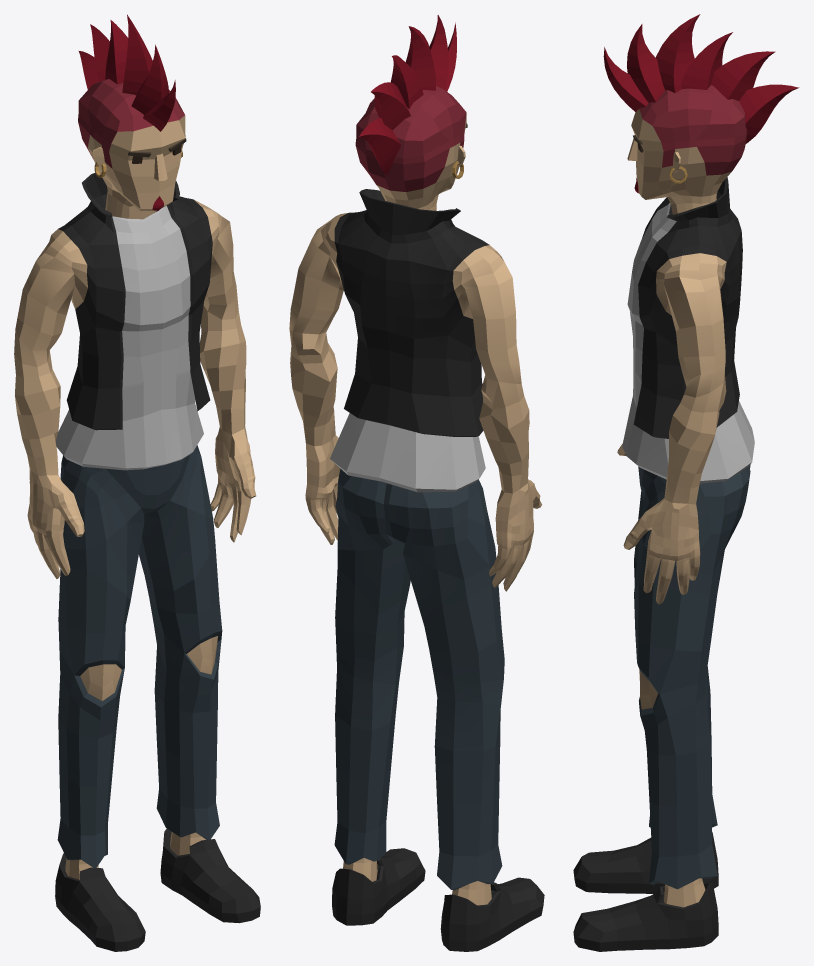
The model's file is punk-man.glb.
3 views of the same model, side by side, from view 1: azimuth 30°, elevation 25°; view 2: azimuth 150°, elevation 25°; view 3: azimuth 270°, elevation 25° (orthographic). The views are drawn at different scales.
Parts seen in each view (by area): view 1: Punk_Body, Punk_Legs, Punk_Head, Punk_Feet; view 2: Punk_Body, Punk_Legs, Punk_Head, Punk_Feet; view 3: Punk_Body, Punk_Legs, Punk_Head, Punk_Feet.
Part boxes in pixels (left/top/right/bottom): Punk_Body: left=14, top=173, right=256, bottom=578; Punk_Legs: left=57, top=445, right=222, bottom=868; Punk_Head: left=78, top=14, right=186, bottom=219; Punk_Feet: left=55, top=828, right=260, bottom=951; Punk_Body: left=289, top=189, right=542, bottom=591; Punk_Legs: left=334, top=469, right=504, bottom=890; Punk_Head: left=355, top=15, right=467, bottom=210; Punk_Feet: left=332, top=848, right=544, bottom=951; Punk_Body: left=617, top=177, right=754, bottom=604; Punk_Legs: left=634, top=464, right=750, bottom=889; Punk_Head: left=603, top=14, right=799, bottom=214; Punk_Feet: left=573, top=832, right=718, bottom=951.
Size of the model in its own units: 0.5283 by 1.96 by 0.4474.
